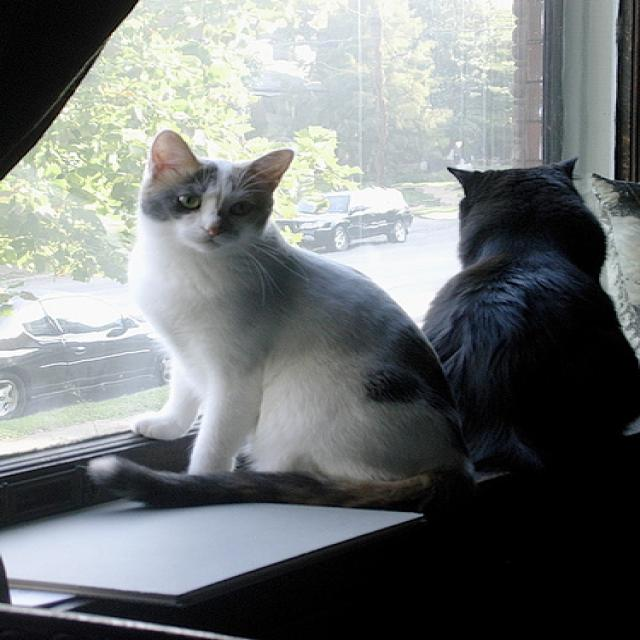left eye: (227, 197, 256, 216)
